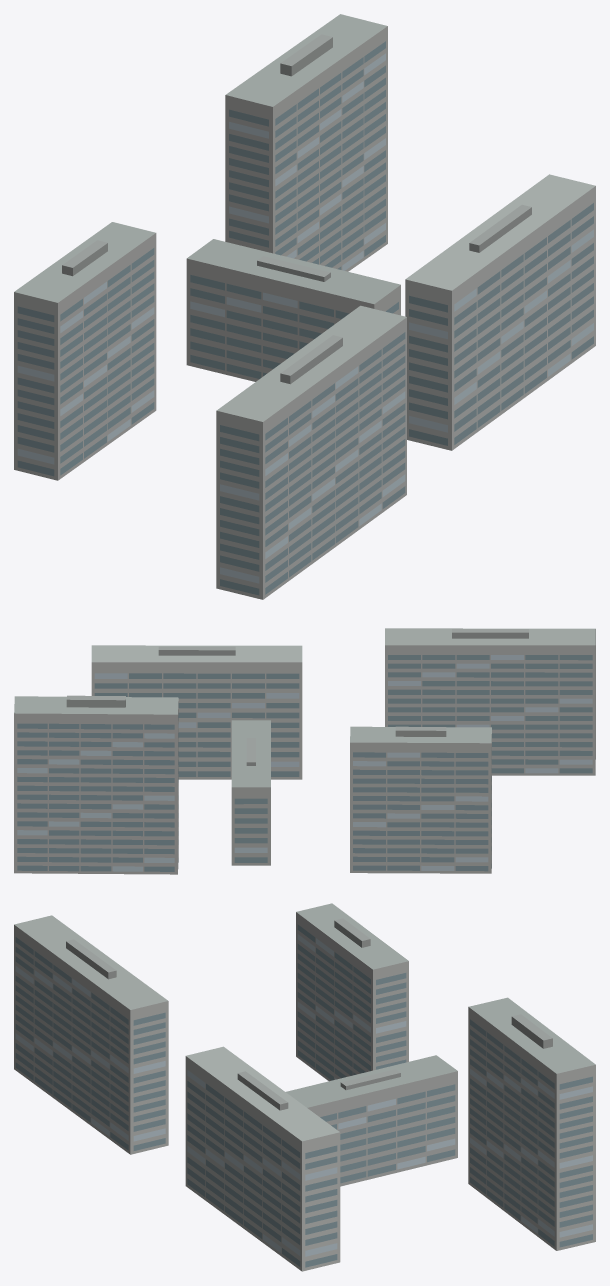
Rendered from apt-a12123001.glb.
3 views of the same model, one above another, from view 1: azimuth 30°, elevation 25°; view 2: azimuth 150°, elevation 25°; view 3: azimuth 270°, elevation 25° (orthographic). The views are drawn at different scales.
Visible parts, largest first — view 1: apt-a12123001; view 2: apt-a12123001; view 3: apt-a12123001.
Part boxes in pixels (bbox=[...]): apt-a12123001: bbox=[14, 14, 595, 599]; apt-a12123001: bbox=[14, 628, 595, 874]; apt-a12123001: bbox=[14, 903, 595, 1271].
Bounding box in the file's own units: 127 × 49 × 139.
